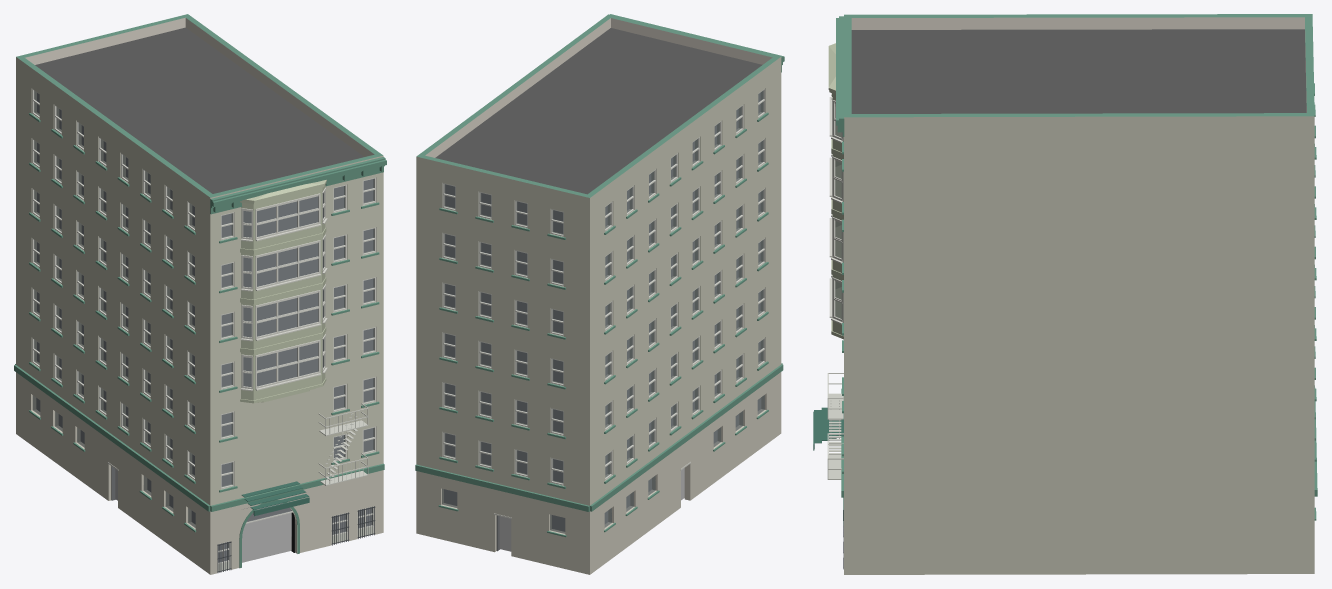
Rendered from exterior.glb.
The picture shows the model from 3 angles, left to right: view 1: azimuth 30°, elevation 25°; view 2: azimuth 150°, elevation 25°; view 3: azimuth 270°, elevation 25°; orthographic projection. The views are drawn at different scales.
Parts seen in each view (by area): view 1: shell, roof, shadow-proxy, bay-glazing-hyb, glazing, frames, trim, bay-windows-hyb, storefront, fire-escape, awning-spans-3, hyC-arches-3; view 2: shell, roof, glazing, frames, shadow-proxy, trim; view 3: shell, roof, bay-glazing-hyb, trim, bay-windows-hyb, fire-escape, awning-spans-3.
Boxes of the visible parts, box(x1,y1,x2,y2) form: shell: box(16, 14, 383, 574); roof: box(35, 27, 363, 193); shadow-proxy: box(36, 93, 372, 562); bay-glazing-hyb: box(241, 187, 327, 391); glazing: box(33, 91, 374, 562); frames: box(32, 89, 376, 489); trim: box(14, 113, 386, 532); bay-windows-hyb: box(240, 179, 326, 403); storefront: box(107, 462, 375, 572); fire-escape: box(318, 403, 368, 485); awning-spans-3: box(241, 481, 309, 514); hyC-arches-3: box(239, 499, 299, 568); shell: box(416, 14, 781, 574); roof: box(435, 28, 762, 194); glazing: box(442, 91, 764, 533); frames: box(442, 89, 765, 485); shadow-proxy: box(444, 93, 760, 551); trim: box(415, 14, 784, 537); shell: box(844, 14, 1314, 574); roof: box(851, 29, 1306, 113); bay-glazing-hyb: box(829, 93, 843, 324); trim: box(836, 16, 1317, 520); bay-windows-hyb: box(828, 43, 843, 339); fire-escape: box(827, 373, 843, 479); awning-spans-3: box(814, 407, 843, 449).
Bounding box in the file's own units: 10.84 × 22.15 × 22.11.
